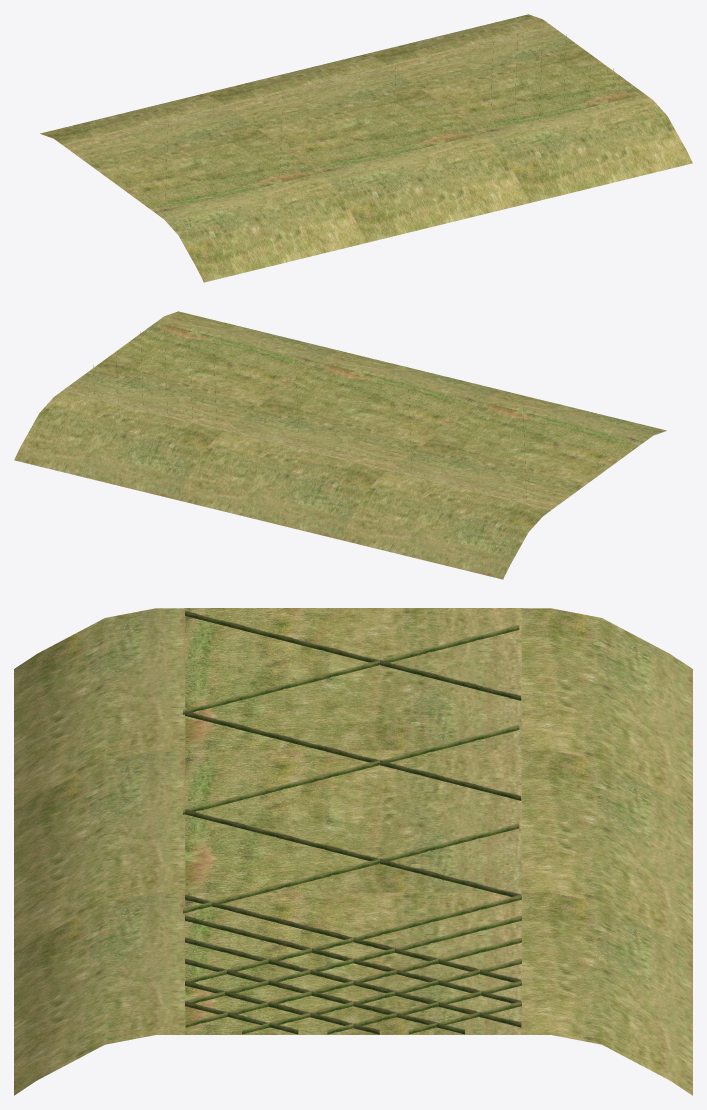
File: poleL2.gltf
The picture shows the model from 3 angles, top to bottom: view 1: azimuth 30°, elevation 25°; view 2: azimuth 150°, elevation 25°; view 3: azimuth 270°, elevation 25°; orthographic projection. The views are drawn at different scales.
Size of the model in its own units: 300 by 22 by 202.
Materials: 1 (1 with a texture image).
